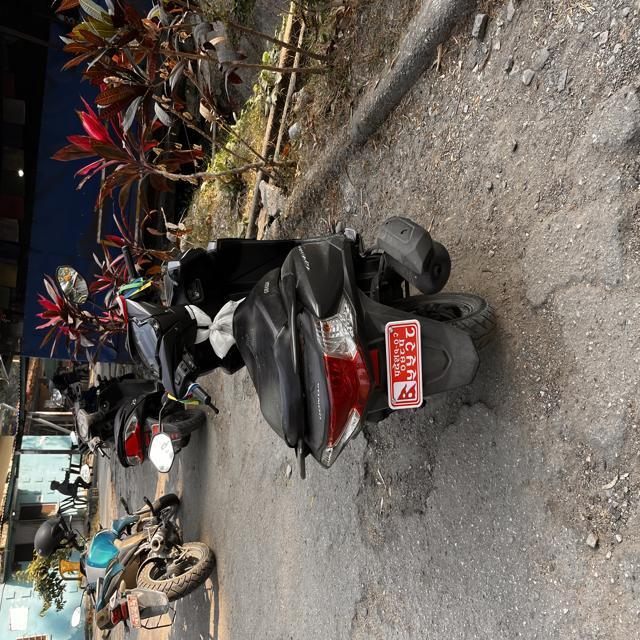license_plate: (373, 306, 428, 432)
